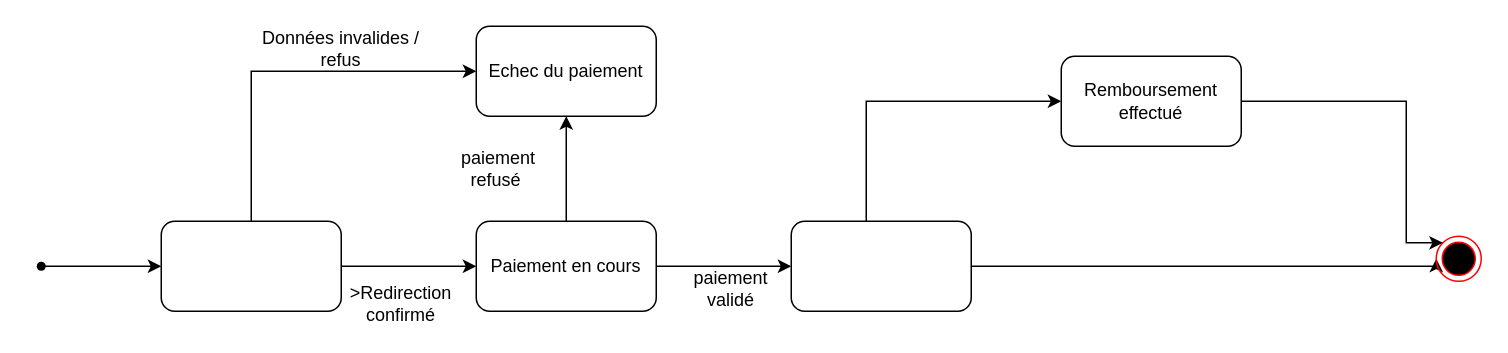
Some shapes in this 1508 by 353 pixel diagram are drawn without their labels. Each missing label, with the centre of its shape:
"Initialisation du paiement" belongs at point 250,265.
"Paiement confirmé" belongs at point 880,265.
